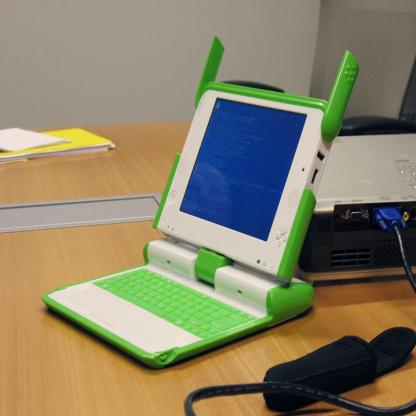board: (40, 35, 359, 370)
